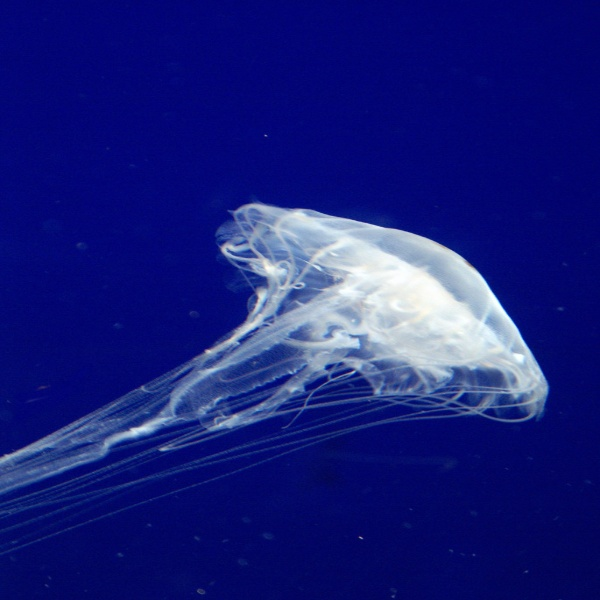Jellyfish: (40, 197, 556, 544)
